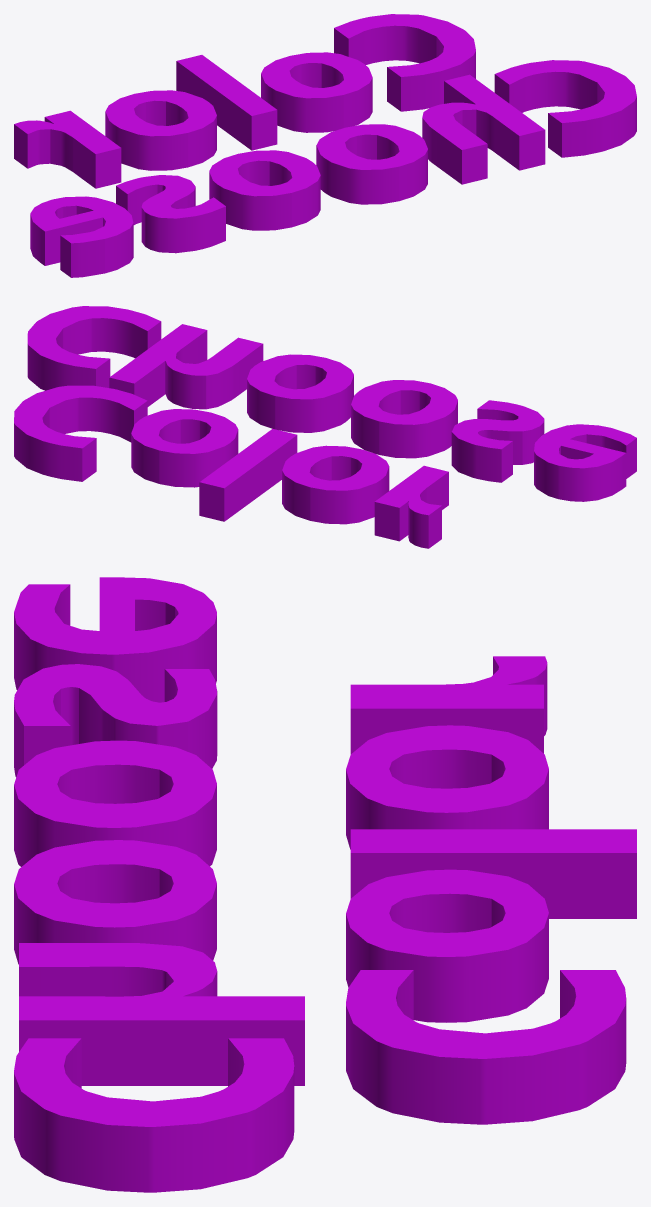
Rendered from ColorChoose.fbx.
The picture shows the model from 3 angles, top to bottom: view 1: azimuth 30°, elevation 25°; view 2: azimuth 150°, elevation 25°; view 3: azimuth 270°, elevation 25°; orthographic projection. The views are drawn at different scales.
Visible parts, largest first — view 1: Char_C_1_curve101; view 2: Char_C_1_curve101; view 3: Char_C_1_curve101.
Boxes of the visible parts, x1=… form: Char_C_1_curve101: x1=14, y1=14, x2=636, y2=277; Char_C_1_curve101: x1=14, y1=306, x2=636, y2=548; Char_C_1_curve101: x1=14, y1=577, x2=636, y2=1192.
Bounding box in the file's own units: 101 × 5.67 × 48.12.
